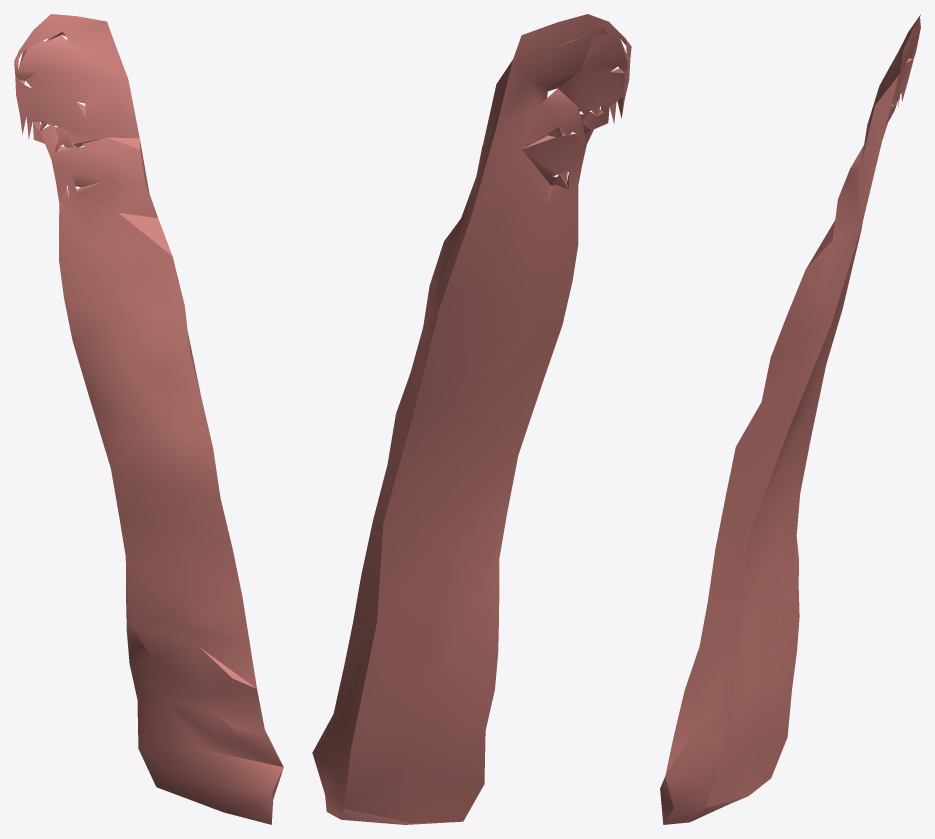
File: fma38693-n_mm1812m.glb
The picture shows the model from 3 angles, left to right: view 1: azimuth 30°, elevation 25°; view 2: azimuth 210°, elevation 25°; view 3: azimuth 270°, elevation 25°; orthographic projection. The views are drawn at different scales.
Visible parts, largest first — view 1: FMA38693-N_MM1812M; view 2: FMA38693-N_MM1812M; view 3: FMA38693-N_MM1812M.
Boxes of the visible parts, x1,y1,x2,y2 form: FMA38693-N_MM1812M: (14, 14, 283, 824); FMA38693-N_MM1812M: (312, 14, 631, 824); FMA38693-N_MM1812M: (660, 14, 920, 824).
Bounding box in the file's own units: 0.00872 × 0.0419 × 0.013.
